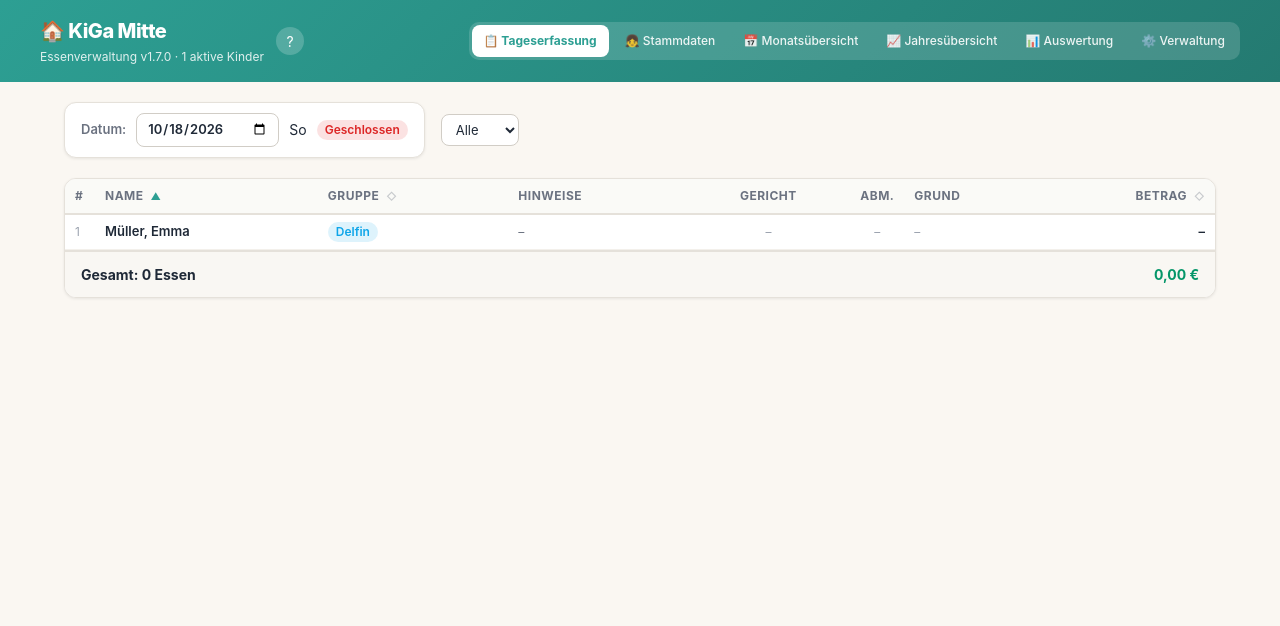
Administration › zeigt alle 5 Hauptsektionen
The image size is (1280, 626).
Expected: the text "Müller, Emma" is shown, top-left (95, 214), bottom-right (318, 249)
Click the button "⚙️ Verwaltung". click: (1183, 41)
box: top-left (1129, 25), bottom-right (1237, 57)
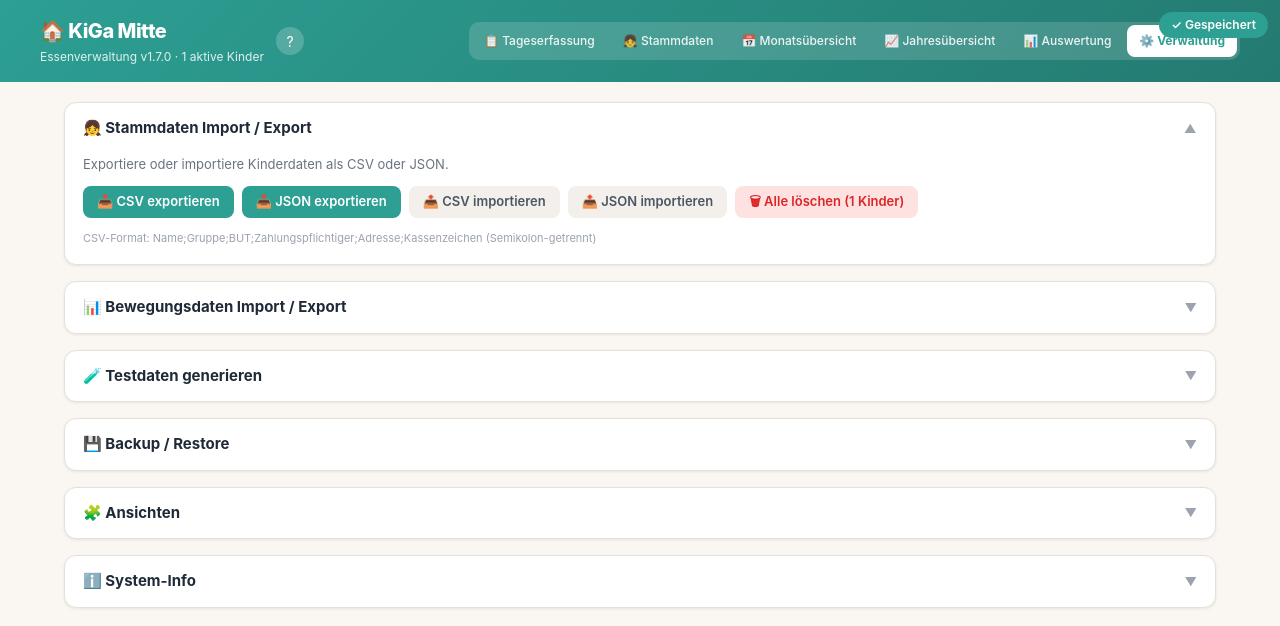
Result: the text "👧 Stammdaten Import / Export" is shown at top-left (83, 117), bottom-right (312, 140)
Result: the text "📊 Bewegungsdaten Import / Export" is shown at top-left (83, 296), bottom-right (346, 319)
Result: the text "🧪 Testdaten generieren" is shown at top-left (83, 365), bottom-right (262, 387)
